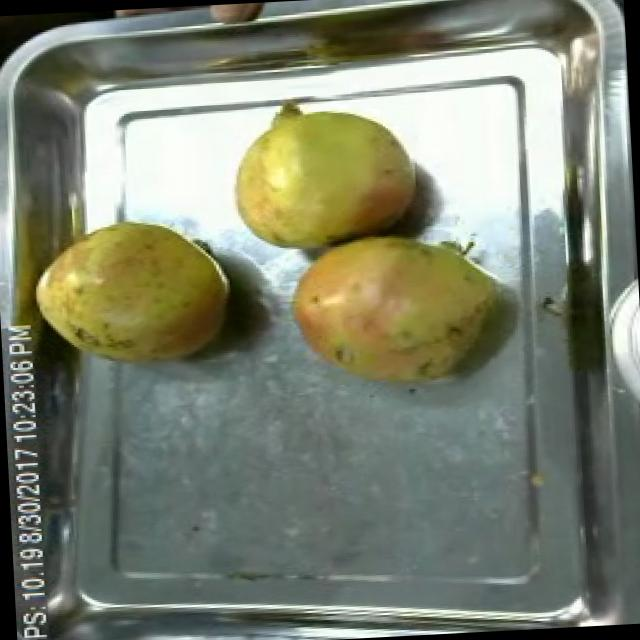fruit: (273, 220, 515, 404), (19, 208, 246, 380), (217, 94, 436, 261)
